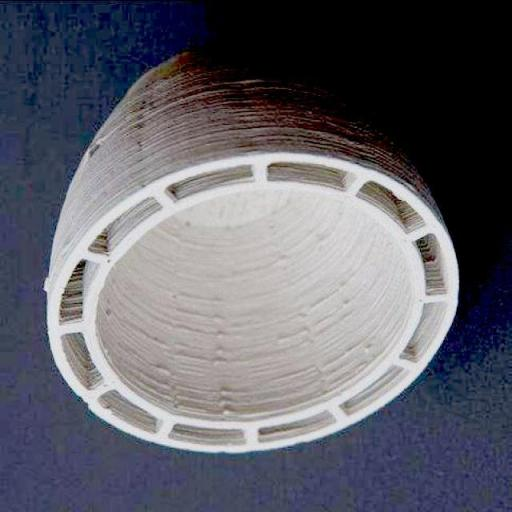blobs: (210, 352, 228, 369), (357, 338, 374, 354), (272, 252, 288, 268), (217, 383, 230, 402), (213, 394, 231, 407), (221, 406, 237, 420), (213, 324, 228, 338), (214, 343, 228, 355), (214, 312, 226, 325)
